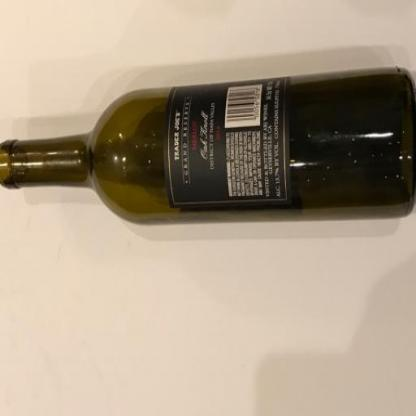trash: (0, 65, 415, 223)
